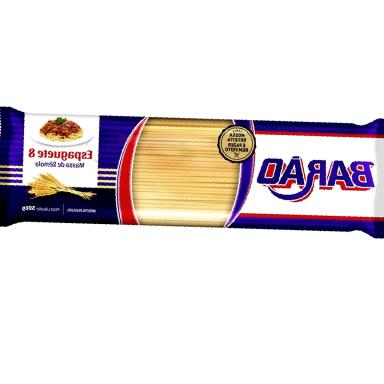pasta package: (0, 108, 383, 237)
